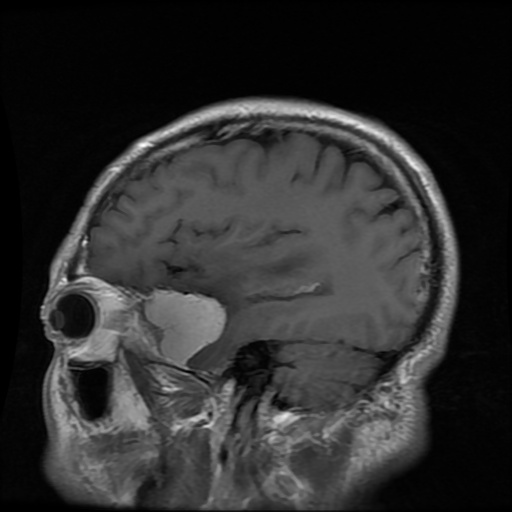meningioma: (144, 288, 226, 364)
